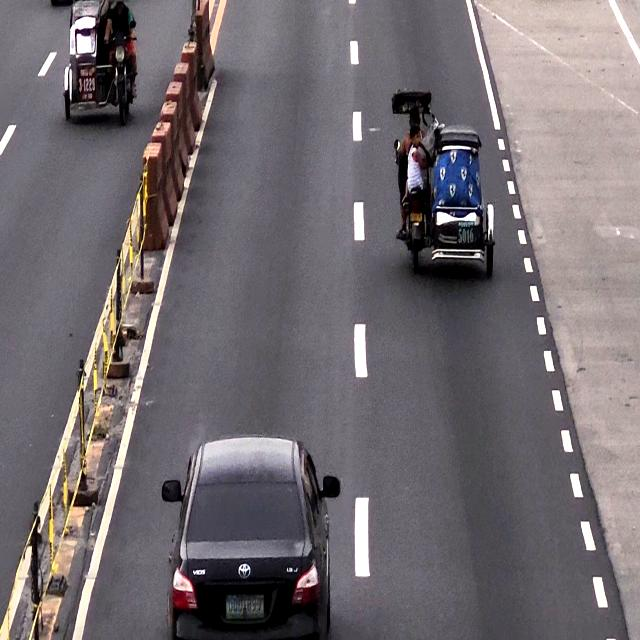Car: (168, 439, 330, 640)
License-Plate: (226, 594, 264, 620)
Tricycle: (394, 91, 496, 272)
